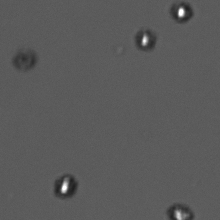Dead Cell: (12, 48, 37, 72)
Living Cell: (53, 173, 78, 199), (170, 1, 194, 24), (135, 28, 157, 52), (167, 202, 194, 218)
